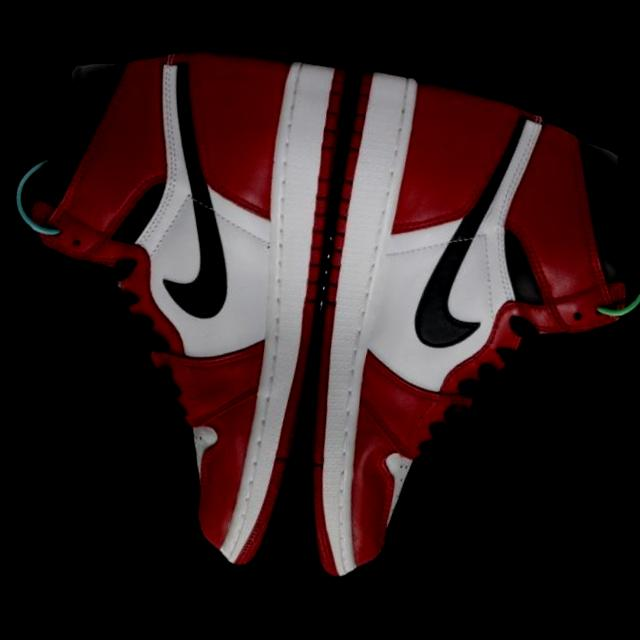nike_original_jordan: (207, 24, 640, 640), (0, 0, 433, 611)
